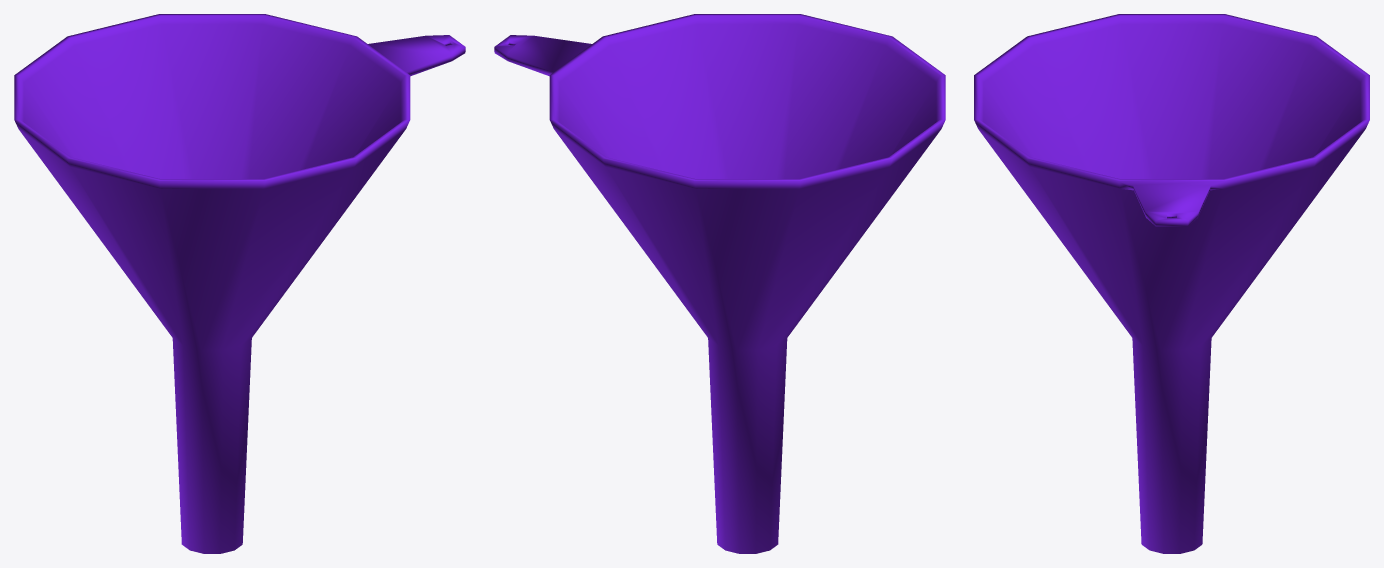
The model's file is Huni.fbx.
3 views of the same model, side by side, from view 1: azimuth 30°, elevation 25°; view 2: azimuth 150°, elevation 25°; view 3: azimuth 270°, elevation 25° (orthographic).
Visible parts, largest first — view 1: funnel; view 2: funnel; view 3: funnel.
Boxes of the visible parts, <box> form: funnel: <box>14,14,465,553</box>; funnel: <box>494,14,945,553</box>; funnel: <box>974,14,1369,553</box>.
Size of the model in its own units: 241 by 245 by 198.
